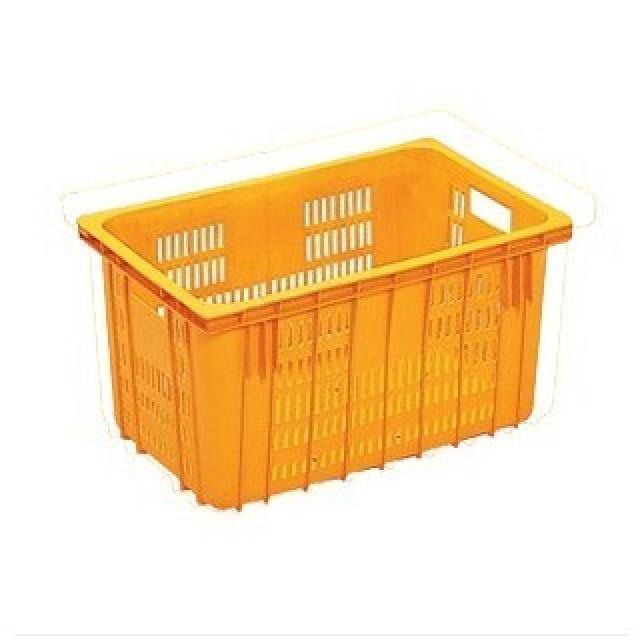basket: (57, 80, 624, 536)
